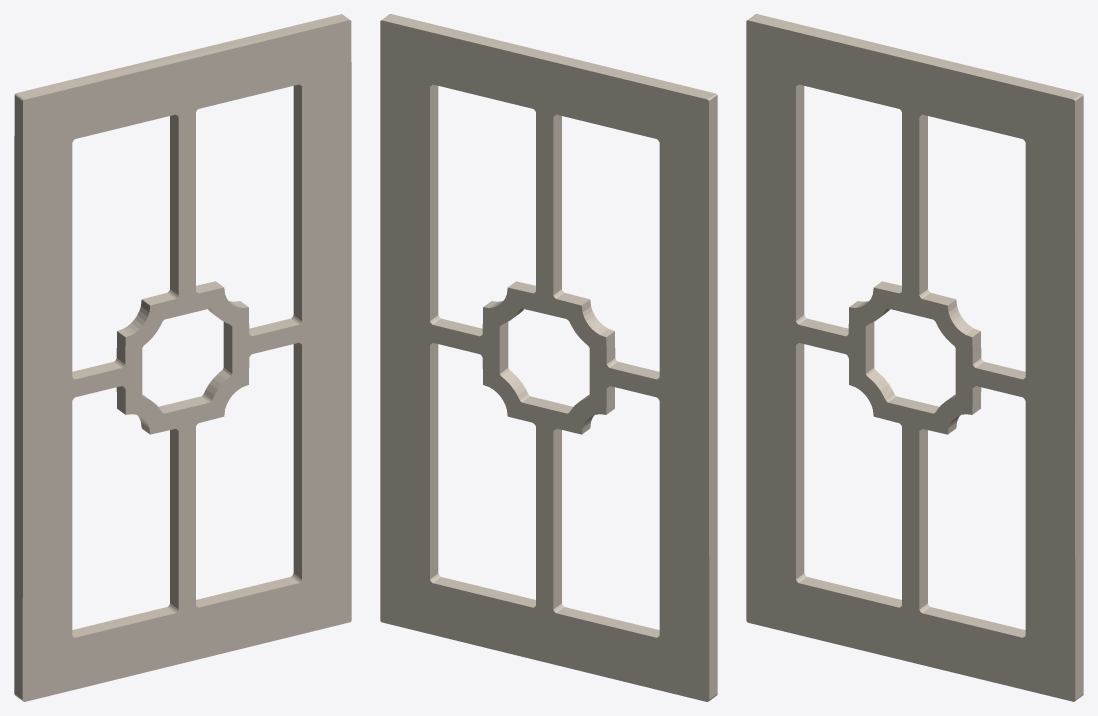
Rendered from nrd-cam-105.glb.
The picture shows the model from 3 angles, left to right: view 1: azimuth 30°, elevation 25°; view 2: azimuth 150°, elevation 25°; view 3: azimuth 330°, elevation 25°; orthographic projection.
Parts seen in each view (by area): view 1: NRD CAM 105; view 2: NRD CAM 105; view 3: NRD CAM 105.
Boxes of the visible parts, box(x1,y1,x2,y2) form: NRD CAM 105: box(14, 14, 351, 701); NRD CAM 105: box(380, 14, 717, 701); NRD CAM 105: box(746, 14, 1083, 701).
Size of the model in its own units: 0.3999 by 0.6999 by 0.018.
